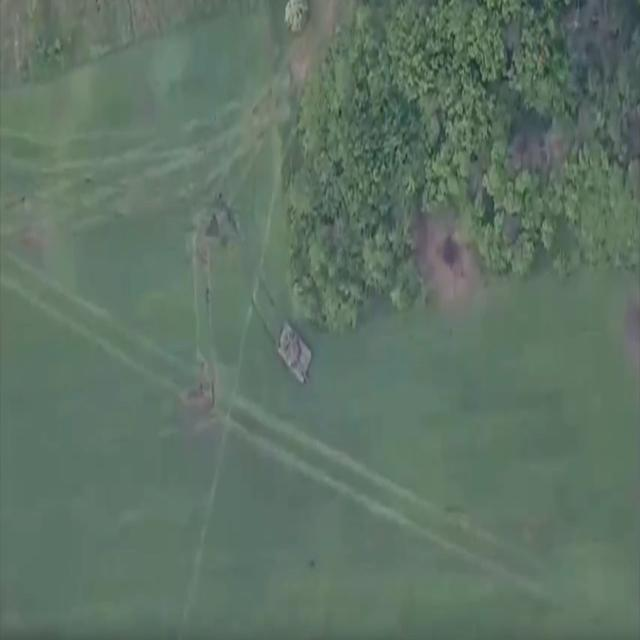MBT: (278, 315, 314, 392)
